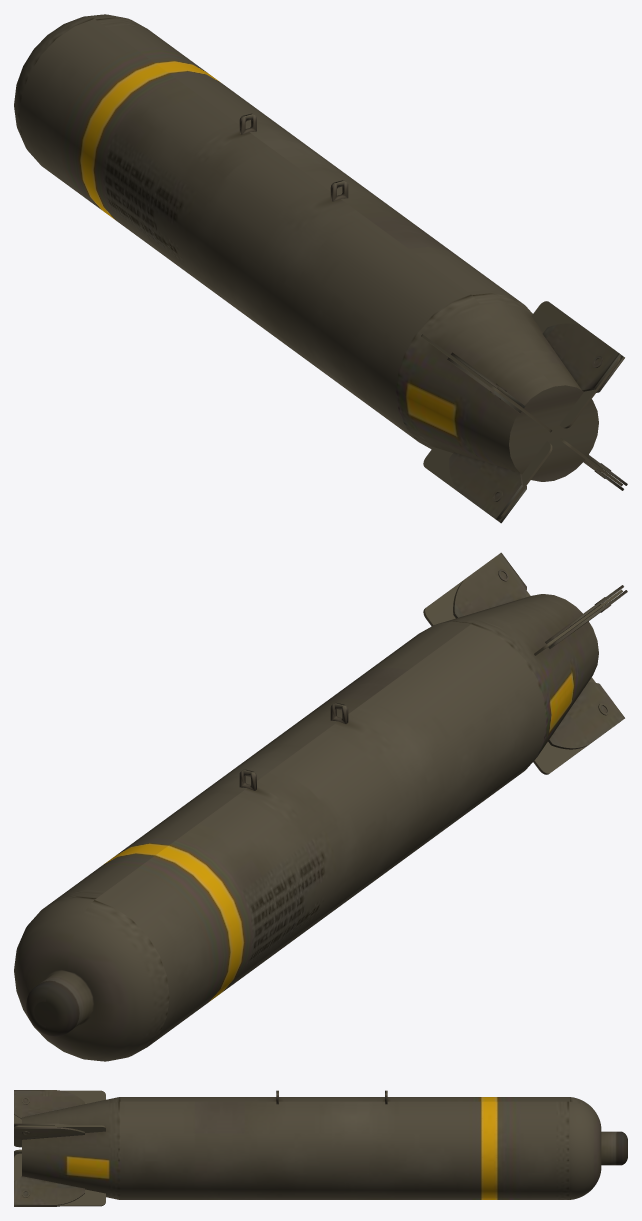
File: cbu87.glb
The picture shows the model from 3 angles, top to bottom: view 1: azimuth 30°, elevation 25°; view 2: azimuth 150°, elevation 25°; view 3: azimuth 270°, elevation 25°; orthographic projection. The views are drawn at different scales.
Visible parts, largest first — view 1: cbu87_body; view 2: cbu87_body; view 3: cbu87_body.
Boxes of the visible parts, x1,y1,x2,y2 form: cbu87_body: (14,14,627,523); cbu87_body: (14,552,627,1061); cbu87_body: (14,1090,627,1206).
Bounding box in the file's own units: 0.4014 × 0.4422 × 2.38.
Materials: 1 (1 with a texture image).
